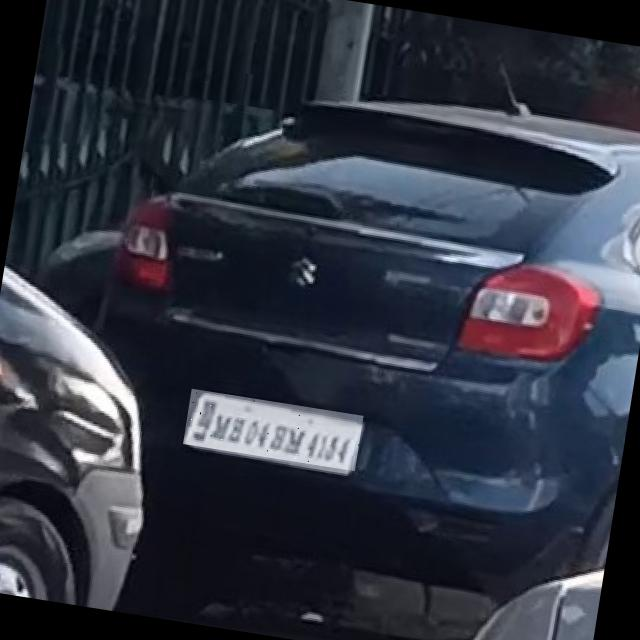Plate: (184, 390, 365, 473)
